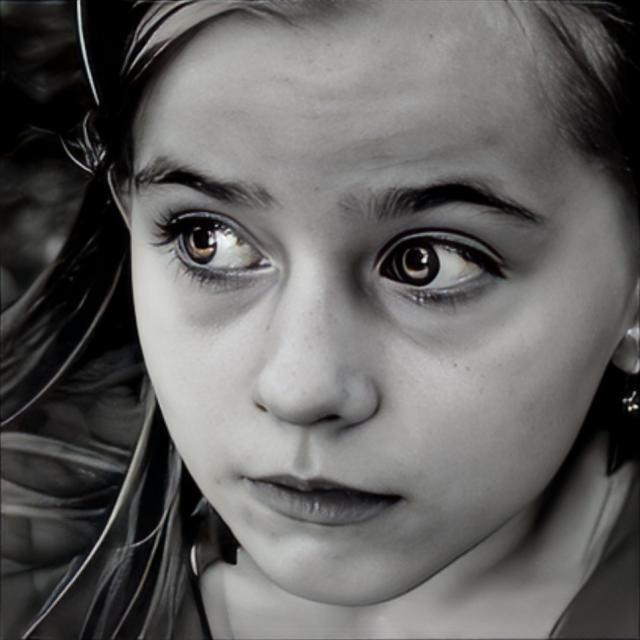surprise: (127, 0, 640, 606)
